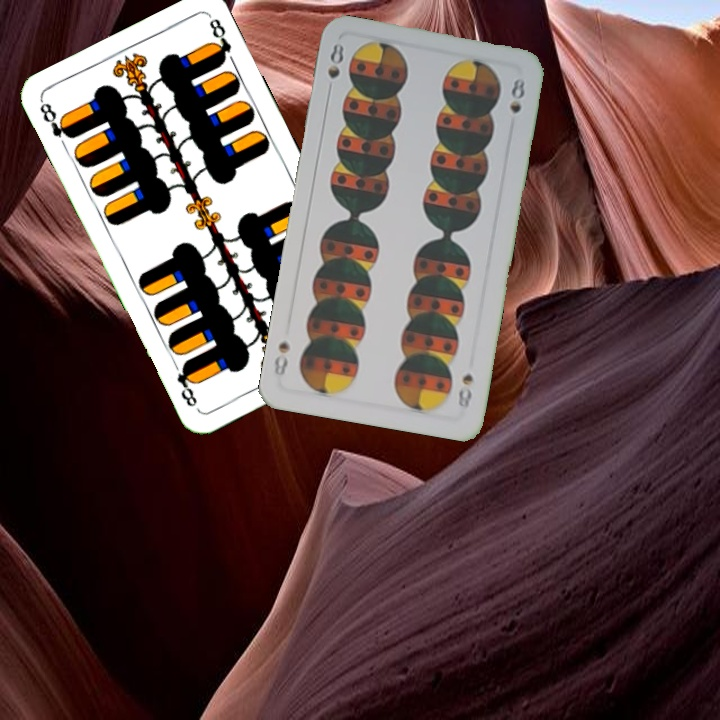E8: (35, 97, 76, 142)
S8: (323, 39, 347, 97), (453, 369, 476, 413)
